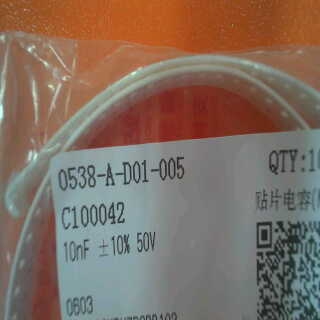10nF: (58, 235, 96, 268)
